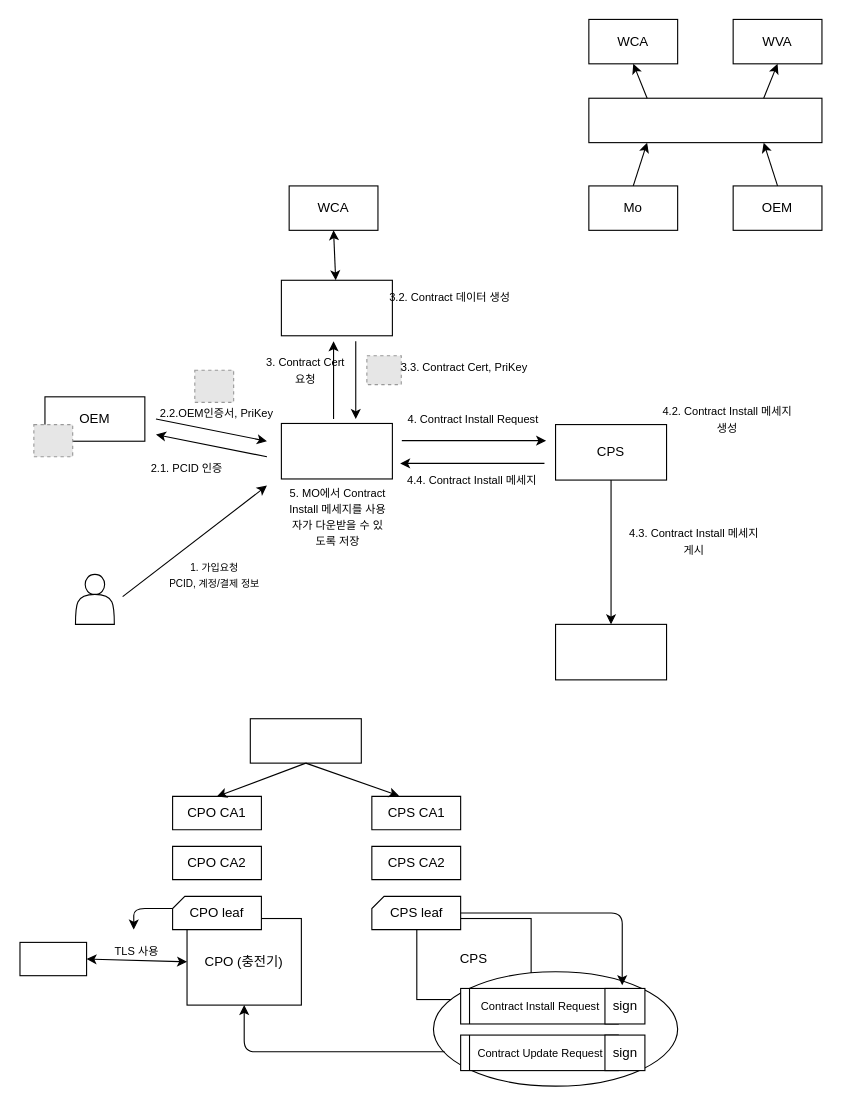
This 841x1106 diagram has some shape labels left out. Grey dashed boxes stand in for pictures. Each missing label, with the box of its shape:
CCP: (554, 623, 667, 680)
EV: (19, 941, 87, 976)
MO(=RA): (280, 422, 392, 479)
V2G: (280, 279, 392, 336)
V2G ( ≒CA Wrapper, Cert 공급 솔루션): (588, 97, 822, 143)
V2G Root: (249, 718, 361, 763)
